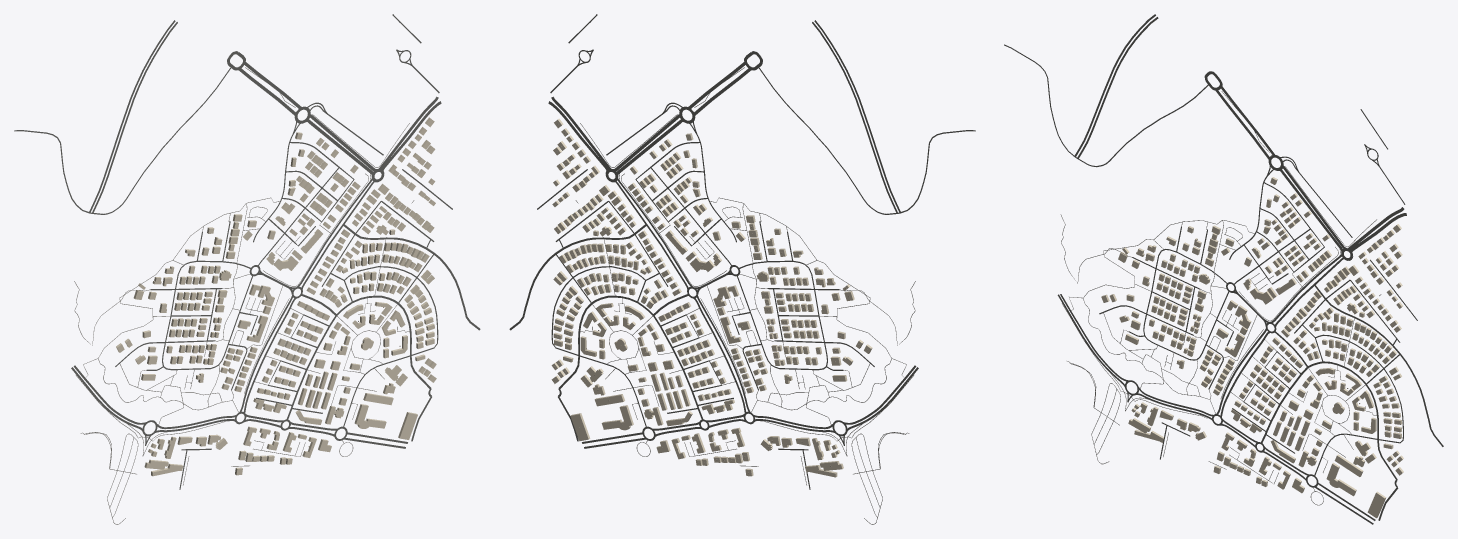
File: historic-palestine-04_20_3457_3142.glb
3 renders of one model, left to right at view 1: azimuth 30°, elevation 25°; view 2: azimuth 150°, elevation 25°; view 3: azimuth 330°, elevation 25°, orthographic. The views are drawn at different scales.
Parts seen in each view (by area): view 1: Road יהדות מרוקו, Road יובל; view 2: Road יהדות מרוקו, Road יובל; view 3: Road יהדות מרוקו.
Boxes of the visible parts, bbox=[...] form: Road יהדות מרוקו: bbox=[14, 67, 231, 214]; Road יובל: bbox=[286, 295, 411, 420]; Road יהדות מרוקו: bbox=[759, 67, 975, 214]; Road יובל: bbox=[578, 295, 702, 419]; Road יהדות מרוקו: bbox=[1004, 44, 1208, 167].
Bounding box in the file's own units: 1294 × 1302 × 8.7.
